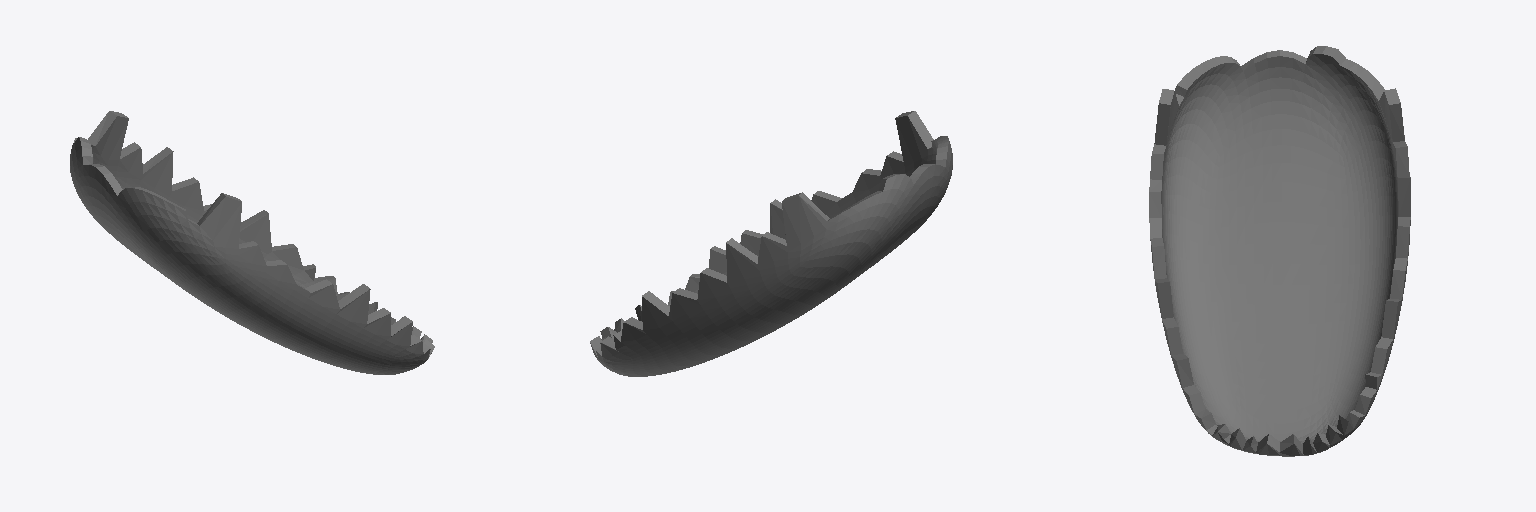
File: Mandibula.obj
The picture shows the model from 3 angles: view 1: azimuth 30°, elevation 25°; view 2: azimuth 150°, elevation 25°; view 3: azimuth 270°, elevation 25°; orthographic projection.
Parts seen in each view (by area): view 1: Mandibula; view 2: Mandibula; view 3: Mandibula.
Part boxes in pixels (x1,y1,x2,y2): Mandibula: (70,111,434,374); Mandibula: (590,111,952,376); Mandibula: (1149,46,1410,456).
Size of the model in its own units: 2.28 by 1.84 by 1.61.